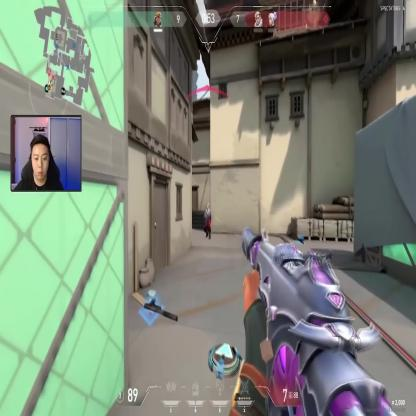enemy: (205, 205, 212, 237)
enemy_head: (207, 205, 209, 210)
